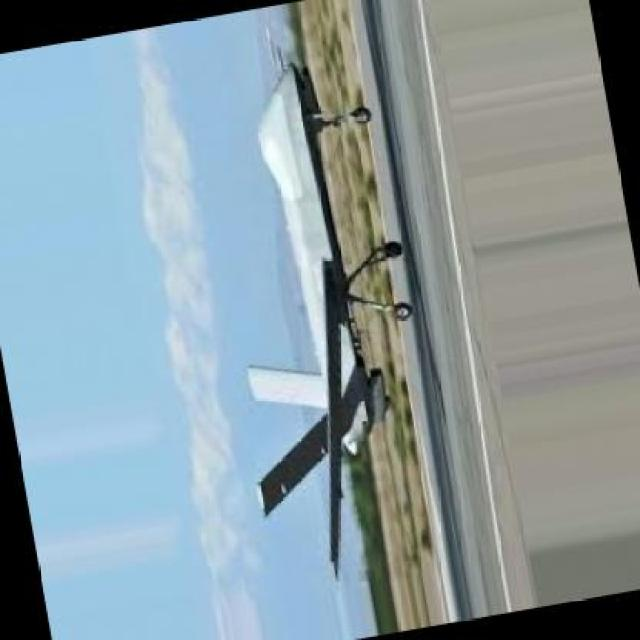iha: (240, 63, 412, 580)
